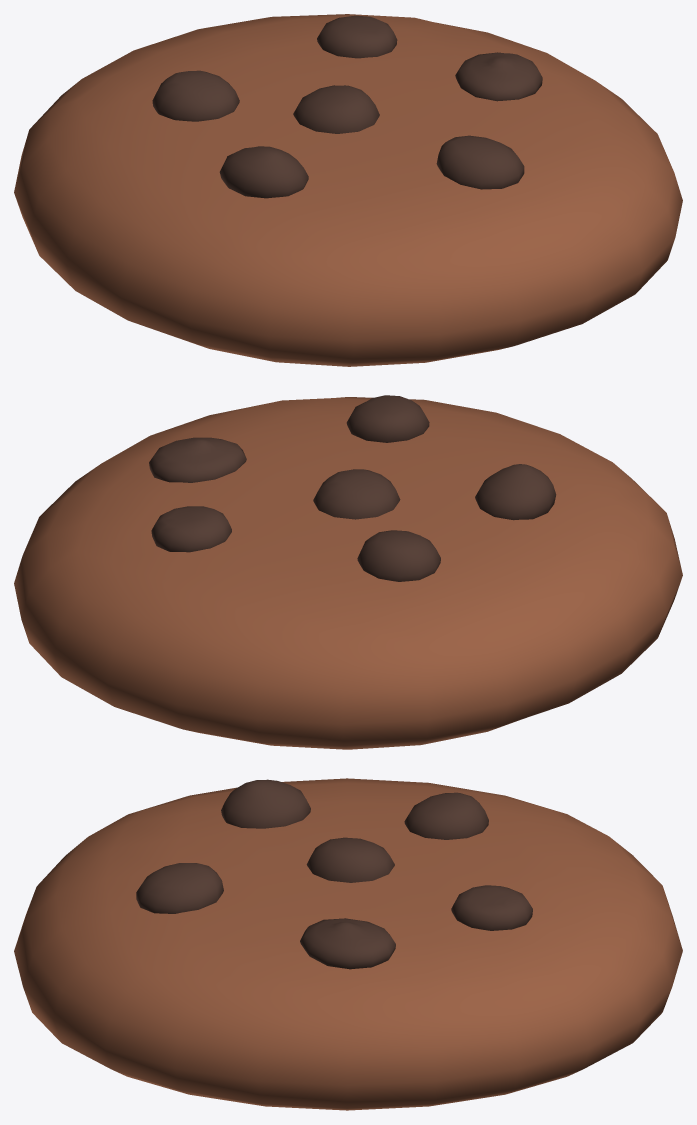
The model's file is CookieChoc_01.fbx.
3 views of the same model, one above another, from view 1: azimuth 30°, elevation 25°; view 2: azimuth 150°, elevation 25°; view 3: azimuth 270°, elevation 25° (orthographic). The views are drawn at different scales.
Visible parts, largest first — view 1: CookieChoc_01_LOD0; view 2: CookieChoc_01_LOD0; view 3: CookieChoc_01_LOD0.
Part boxes in pixels (bbox=[...]): CookieChoc_01_LOD0: bbox=[14, 14, 682, 366]; CookieChoc_01_LOD0: bbox=[14, 395, 682, 749]; CookieChoc_01_LOD0: bbox=[14, 778, 682, 1110].
Size of what is drawn, in the model's own units: 468 by 128 by 491.
